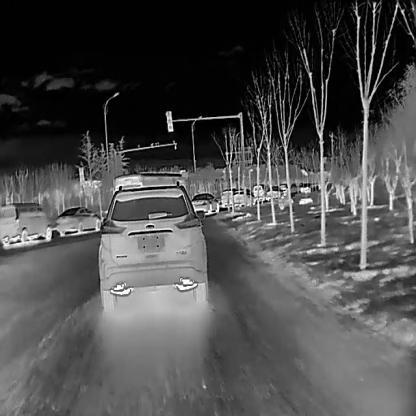car: (97, 180, 207, 309), (0, 201, 51, 245), (56, 205, 100, 235), (189, 192, 219, 215), (231, 188, 255, 206), (221, 188, 238, 207), (252, 183, 271, 199), (265, 185, 285, 199), (278, 182, 288, 197), (299, 185, 311, 193)
